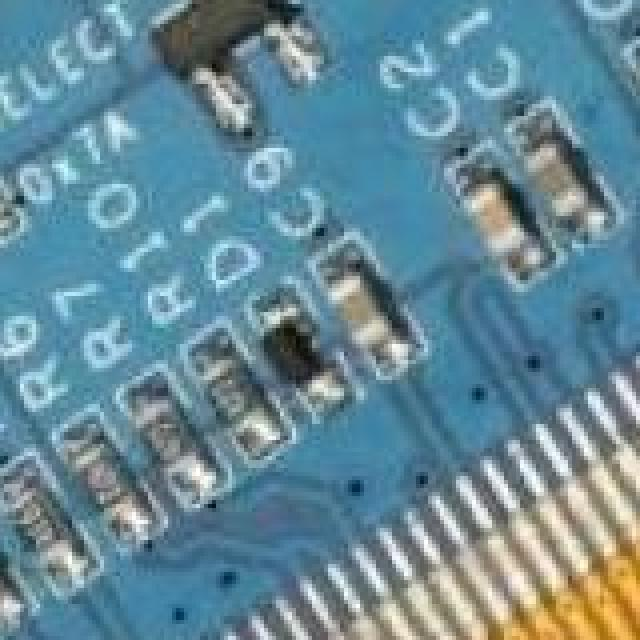capacitor: (320, 252, 406, 362), (456, 168, 536, 268), (520, 144, 602, 226), (0, 524, 12, 612)
diode: (240, 304, 336, 396)
resistor: (0, 480, 76, 584), (76, 436, 140, 540), (132, 408, 202, 496), (196, 360, 258, 456)
transistor: (144, 0, 332, 128)
